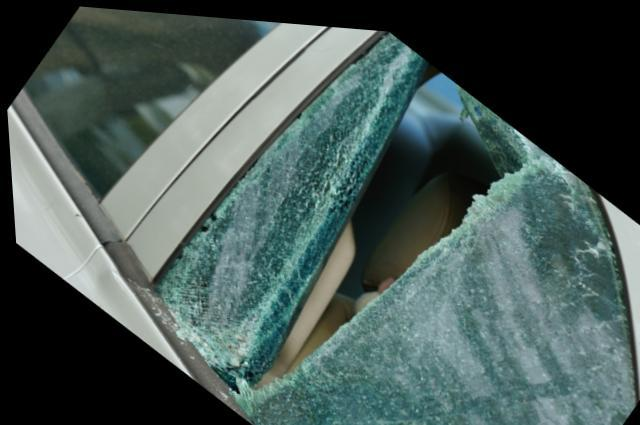glass shatter: (149, 25, 631, 425)
